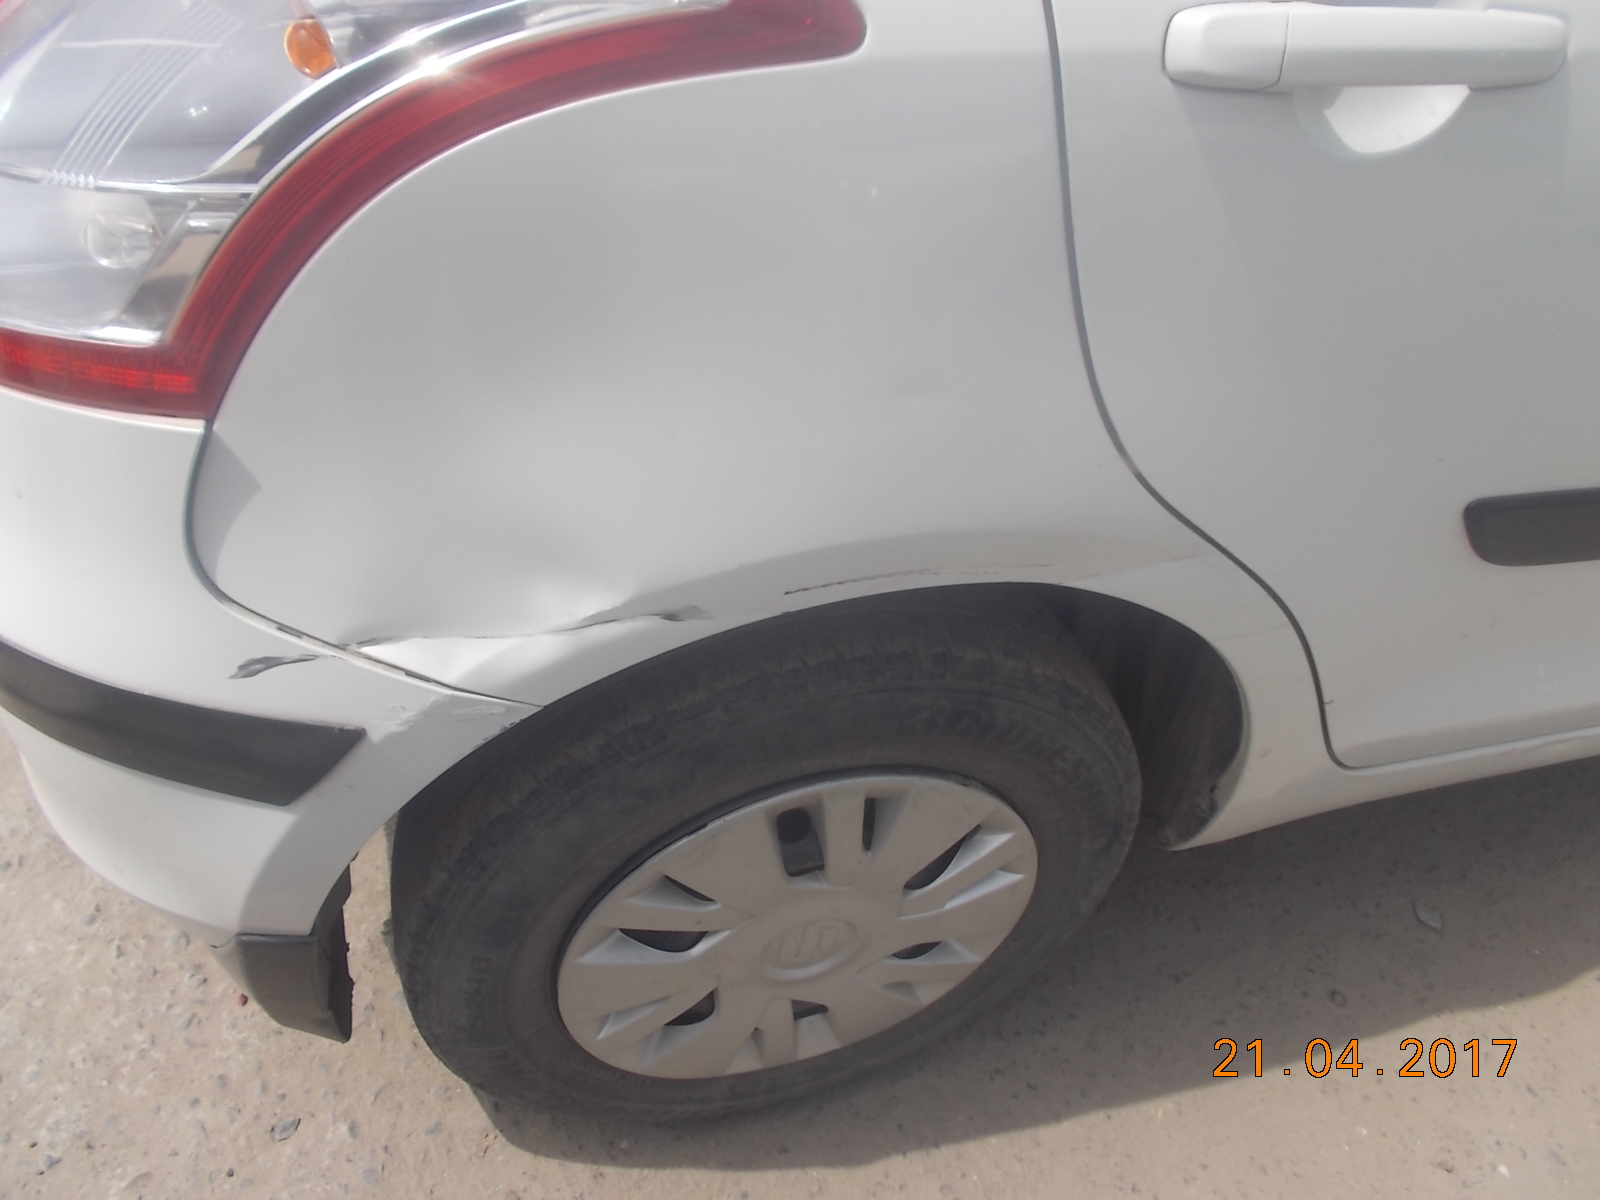Dent: (365, 568, 643, 649)
Scratch_or_spot: (236, 643, 299, 678)
